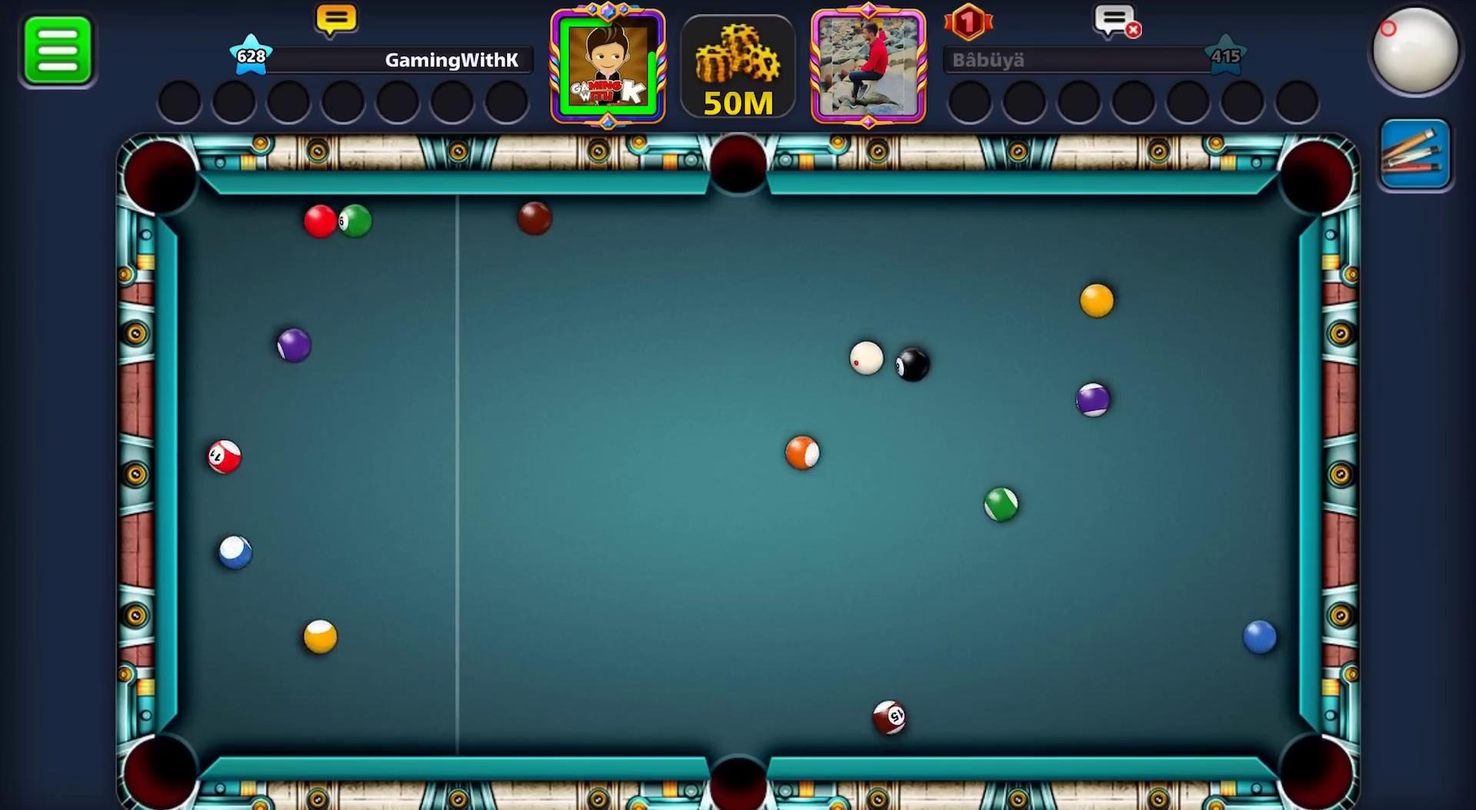Ball: (269, 322, 323, 371), (504, 195, 559, 243), (976, 480, 1029, 528), (1073, 273, 1120, 326), (862, 694, 911, 744), (291, 198, 343, 242), (1237, 611, 1278, 661), (338, 204, 375, 241), (299, 619, 335, 656), (218, 534, 254, 571), (207, 443, 243, 480), (1077, 382, 1113, 418), (786, 436, 821, 473)
Hole: (109, 123, 221, 233), (98, 719, 222, 810), (1259, 715, 1364, 810), (1272, 122, 1359, 226), (697, 125, 782, 219), (692, 742, 786, 810)
Play_Area: (177, 196, 1299, 757)
Spin: (1330, 0, 1476, 113)
White: (843, 333, 888, 379)
